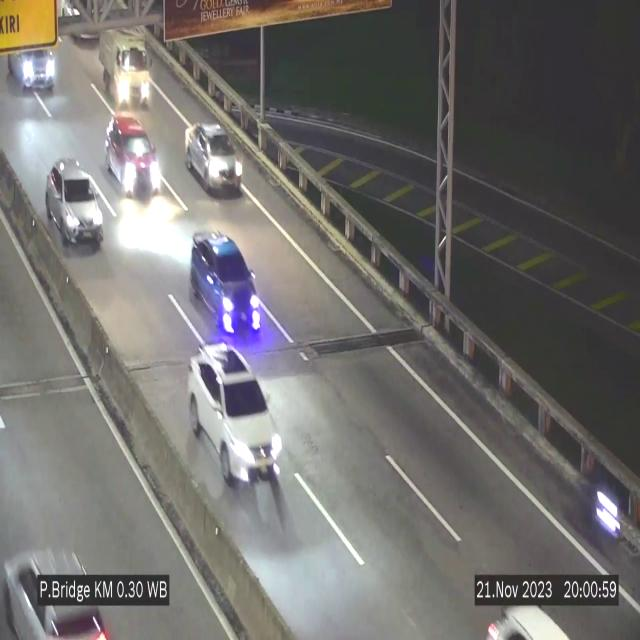Car: (188, 340, 284, 492), (0, 522, 114, 640), (190, 230, 264, 350), (46, 159, 103, 248), (108, 113, 159, 210), (185, 123, 242, 194), (6, 27, 61, 97)
Motorcycle: (570, 455, 621, 560)
Truck: (96, 29, 155, 110)
